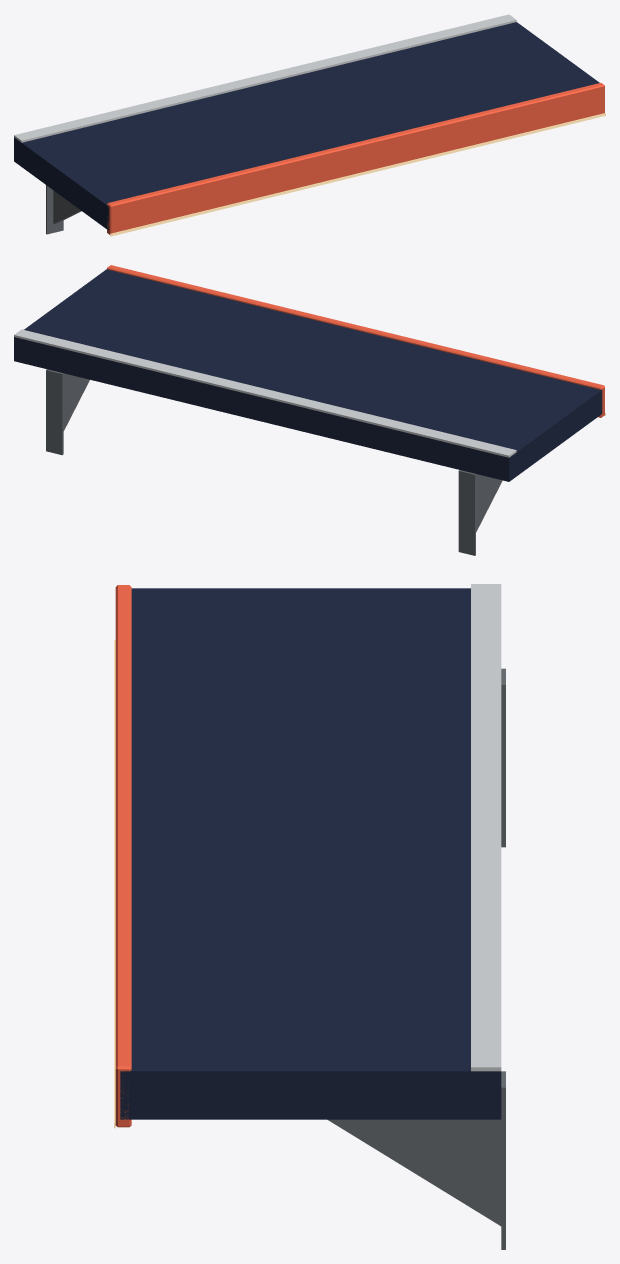
Rendered from SC_Bld_Store_Canopy_3m.gltf.
The picture shows the model from 3 angles, top to bottom: view 1: azimuth 30°, elevation 25°; view 2: azimuth 150°, elevation 25°; view 3: azimuth 270°, elevation 25°; orthographic projection. The views are drawn at different scales.
Parts seen in each view (by area): view 1: SC_Bld_Store_Canopy_3m; view 2: SC_Bld_Store_Canopy_3m; view 3: SC_Bld_Store_Canopy_3m.
Part boxes in pixels (x1,y1,x2,y2): SC_Bld_Store_Canopy_3m: [14, 14, 605, 236]; SC_Bld_Store_Canopy_3m: [14, 265, 605, 555]; SC_Bld_Store_Canopy_3m: [114, 584, 505, 1249].
Bounding box in the file's own units: 3 × 0.622 × 1.03.
2 materials, 2 textured.
